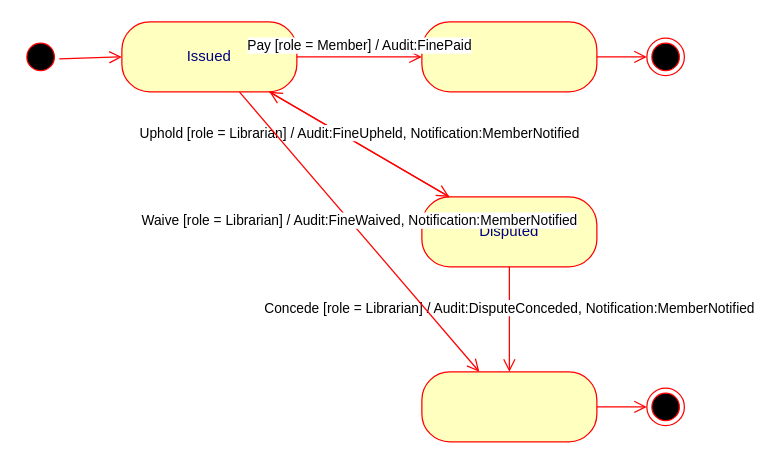
Image size: 776x464. Some labels were removed from this diagram. The box of each missing label's shape, as (x1, y1, x2, y2) in pixels:
Paid: (421, 21, 597, 92)
Waived: (421, 371, 597, 442)
